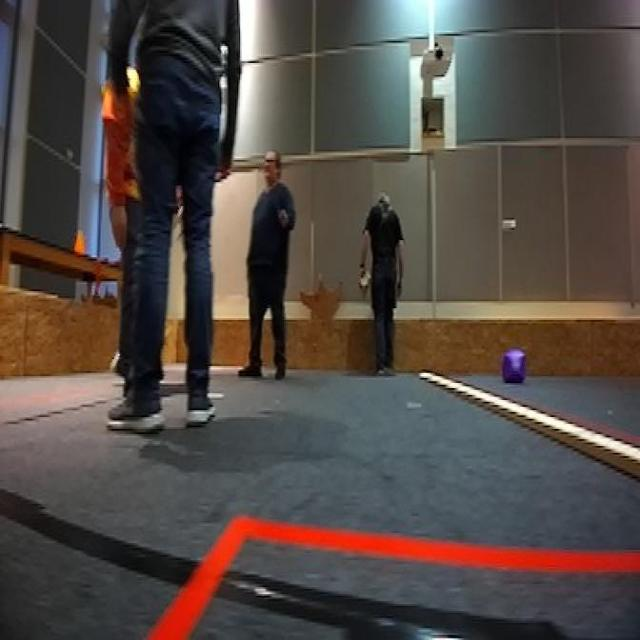frc_cube: (501, 351, 525, 383)
